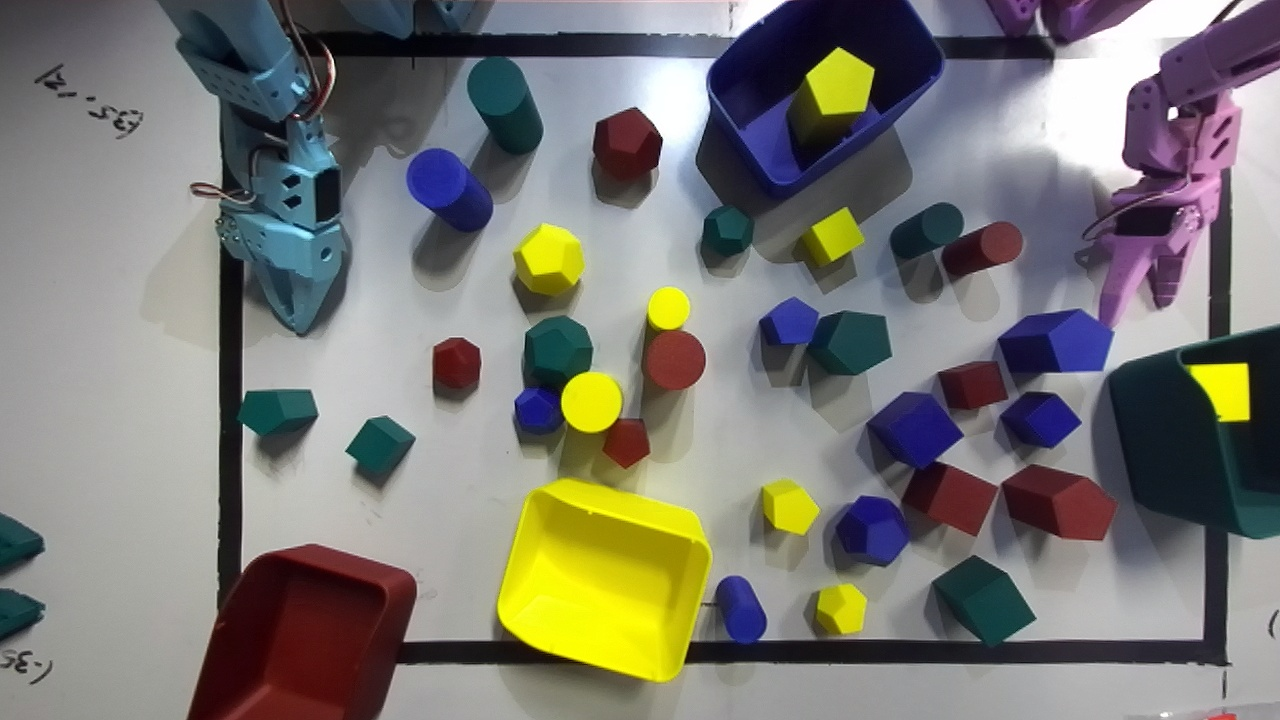bin: (708, 0, 942, 198), (497, 478, 710, 681), (188, 545, 414, 719), (1108, 326, 1279, 538)
cube: (932, 556, 1035, 646), (867, 392, 962, 468), (903, 462, 996, 535), (999, 392, 1081, 447), (345, 416, 415, 473), (1186, 363, 1249, 422), (801, 207, 863, 265), (938, 360, 1007, 409)
cylinder: (467, 57, 542, 153), (406, 148, 492, 231), (941, 222, 1022, 278), (890, 202, 963, 260), (643, 329, 705, 389), (561, 372, 622, 432), (714, 575, 766, 643), (647, 287, 689, 329)
dodecahedron: (835, 495, 909, 565), (522, 316, 592, 390), (513, 223, 584, 295), (593, 107, 662, 178), (702, 205, 753, 256), (815, 583, 866, 633), (432, 337, 480, 390), (514, 387, 562, 435)
hexagonal: (1002, 465, 1116, 540), (787, 48, 874, 146), (998, 309, 1113, 373), (807, 310, 891, 374), (236, 389, 318, 435), (762, 478, 819, 534), (760, 297, 818, 345), (602, 418, 649, 468)
